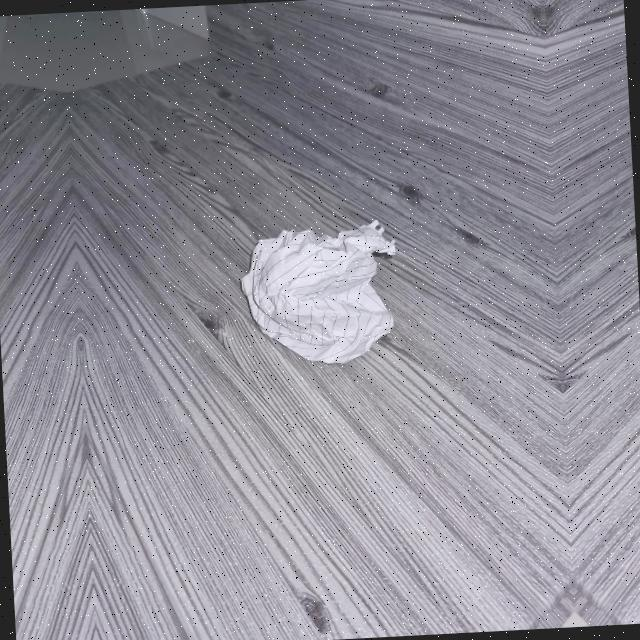paper: (238, 218, 395, 368)
